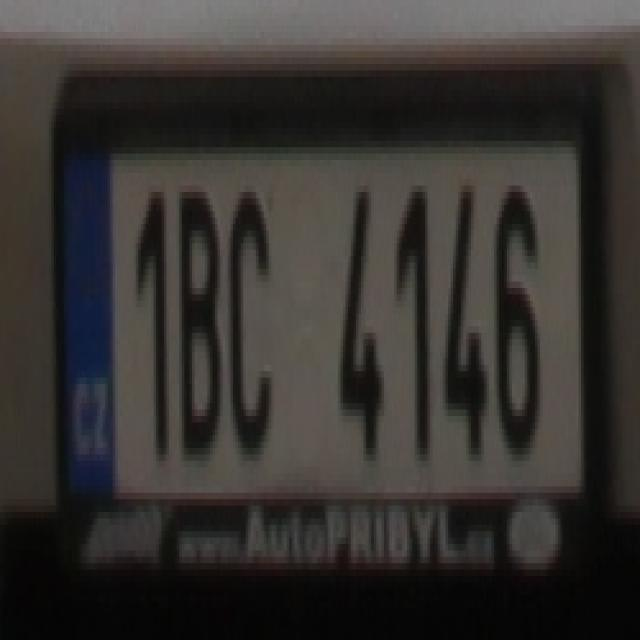1: (131, 186, 174, 467), (394, 186, 435, 467)
4: (333, 186, 389, 467), (443, 185, 491, 460)
6: (494, 186, 545, 467)
B: (174, 186, 223, 448)
C: (225, 186, 274, 467)
